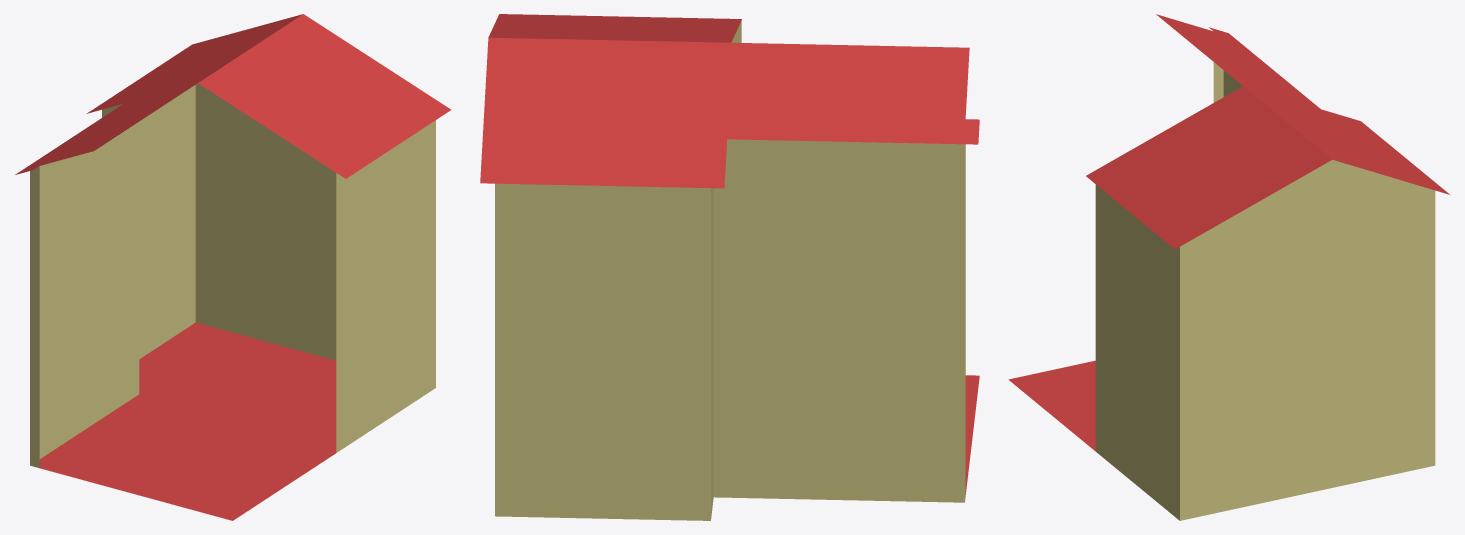
The picture shows the model from 3 angles, left to right: view 1: azimuth 30°, elevation 25°; view 2: azimuth 150°, elevation 25°; view 3: azimuth 270°, elevation 25°; orthographic projection. The views are drawn at different scales.
Size of the model in its own units: 10.42 by 9.69 by 8.06.
